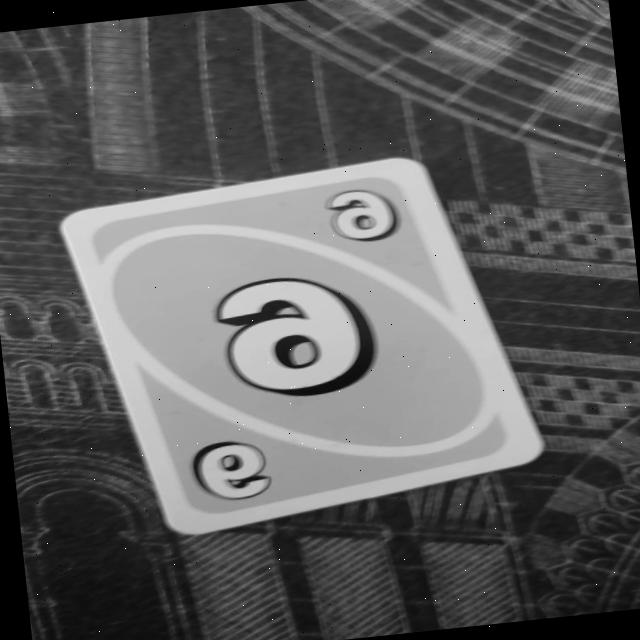card_6: (56, 142, 552, 546)
